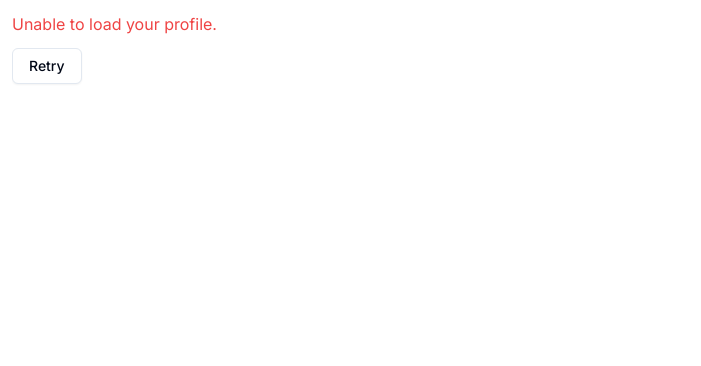
Test case: current profile query › renders an error state and allows a retry
Expected: the message shows "Unable to load your profile", [12,14,217,34]
Step 1. Click the button "Retry" → click(47, 66), box [12,48,82,84]
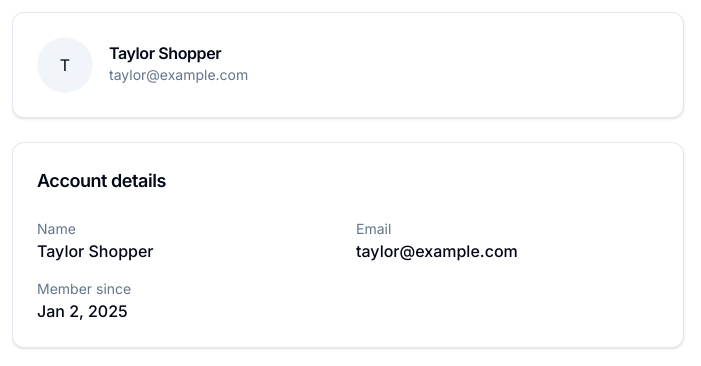
Expected: the text "Taylor Shopper" is shown 2 times, [109,43,221,63]; [37,241,154,261]
